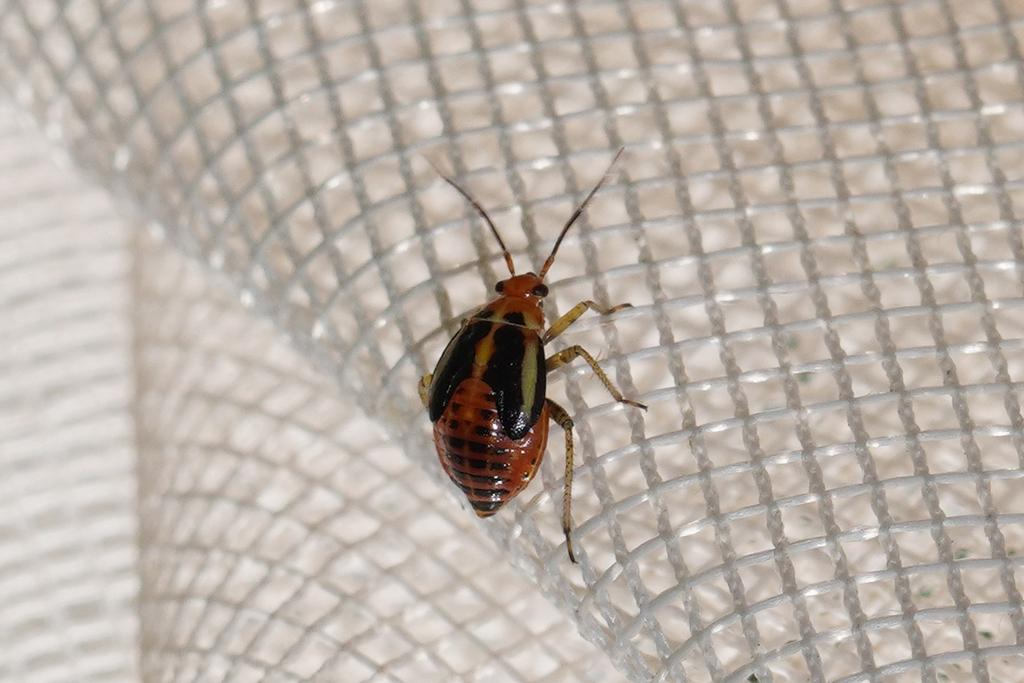plant_bugs: (305, 84, 748, 606)
